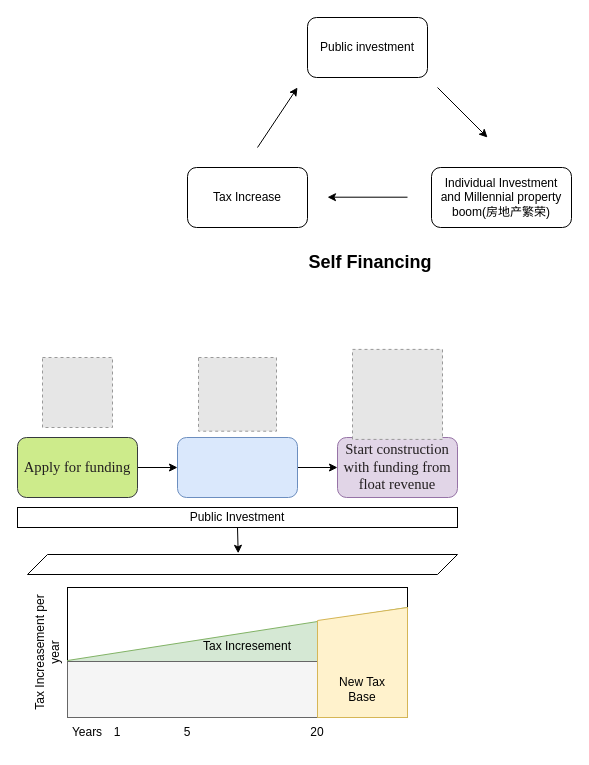
Image size: 589x765. Some labels were removed from this diagram. Grey dashed boxes stand in for pictures. The shapes that lost their labels are listed below. From the top down, each one's box as (x1, y1, x2, y2) in pixels, then its label:
(176, 436, 298, 498): TIF allocation
(26, 554, 458, 574): Obtain capital by turning tax base into standardized, tradable assets
(66, 660, 318, 718): Old Tax Base
